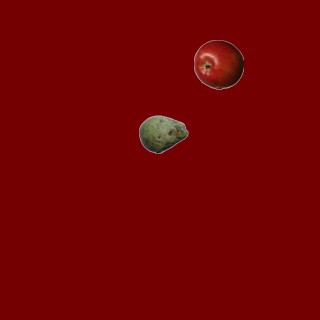Apple Braeburn: (193, 39, 243, 89)
Pear Stone: (138, 109, 188, 159)
